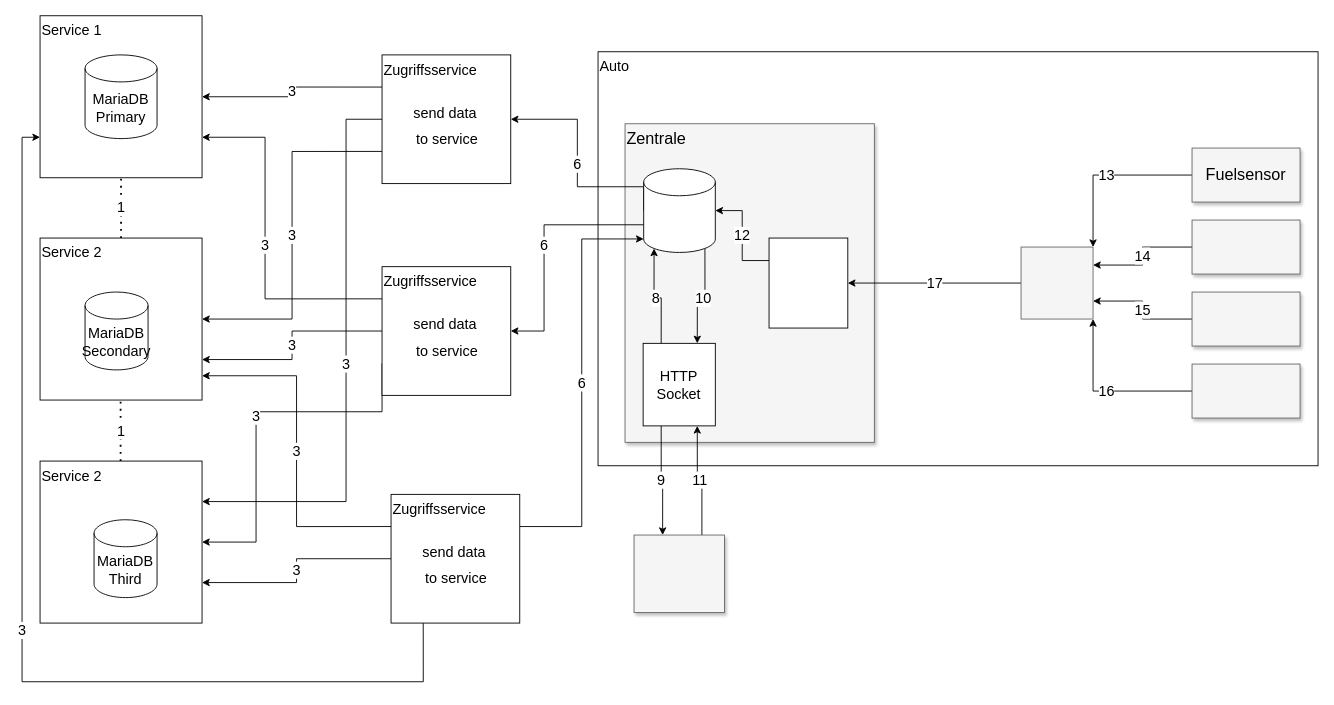
This 1334x705 diagram has some shape labels left out. The centre of each missing label's shape, as x and y in pixels:
"AvgSensor" belongs at [1246,392].
"Clocksensor" belongs at [1246,248].
"Data Storage Map" belongs at [679,210].
"Mosquitto Broker" belongs at [1056,282].
"MQTT Listener" belongs at [808,282].
"Trafficsensor" belongs at [1246,320].
"Web1" belongs at [680,575].
